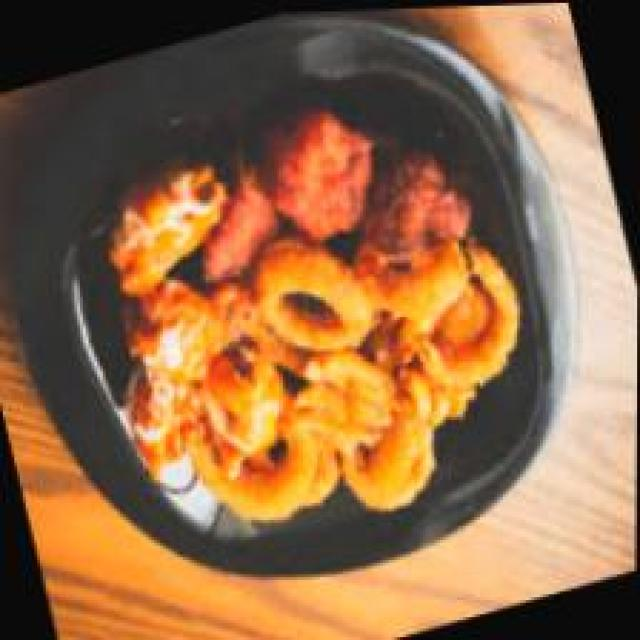Chicken Wings: (192, 87, 492, 319), (70, 154, 290, 466)
Onion Rings: (174, 192, 566, 548)
